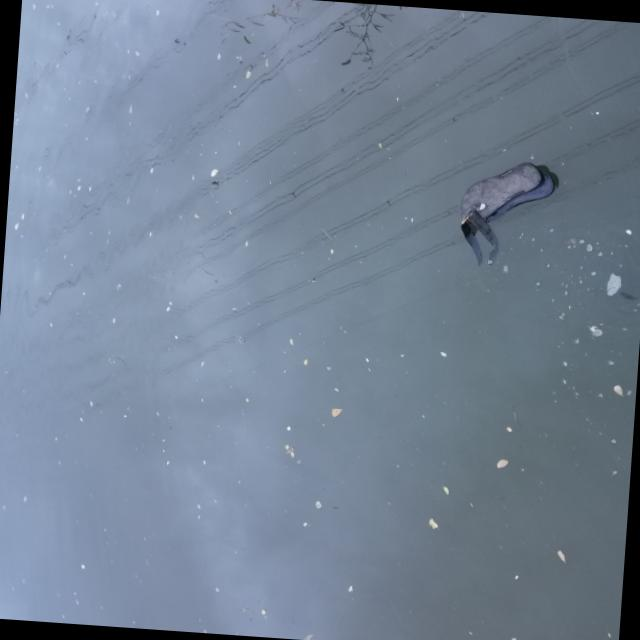unknow: (444, 151, 565, 268)
